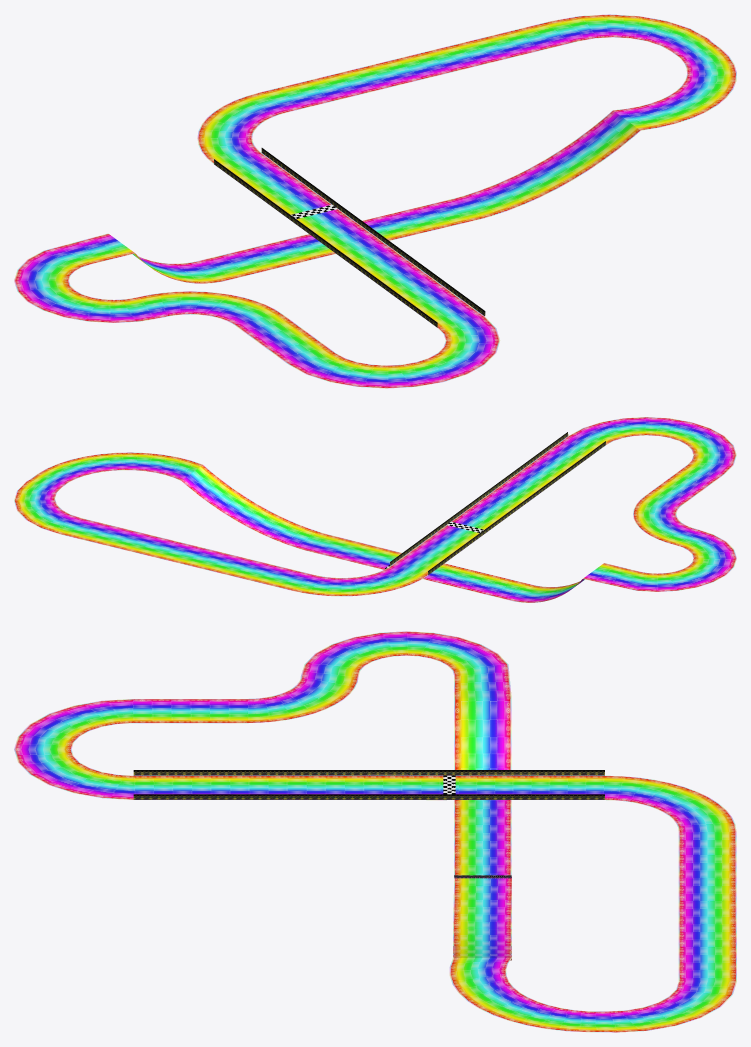
The picture shows the model from 3 angles, top to bottom: view 1: azimuth 30°, elevation 25°; view 2: azimuth 150°, elevation 25°; view 3: azimuth 270°, elevation 25°; orthographic projection. The views are drawn at different scales.
Parts seen in each view (by area): view 1: Silly_Rainbow-SKP--r_road01, Silly_Rainbow-SKP--r_saku03; view 2: Silly_Rainbow-SKP--r_road01, Silly_Rainbow-SKP--r_saku03; view 3: Silly_Rainbow-SKP--r_road01, Silly_Rainbow-SKP--r_saku03.
Boxes of the visible parts, x1,y1,x2,y2 form: Silly_Rainbow-SKP--r_road01: [14, 14, 736, 388]; Silly_Rainbow-SKP--r_saku03: [214, 148, 485, 327]; Silly_Rainbow-SKP--r_road01: [14, 417, 736, 602]; Silly_Rainbow-SKP--r_saku03: [390, 432, 605, 574]; Silly_Rainbow-SKP--r_road01: [14, 631, 736, 1032]; Silly_Rainbow-SKP--r_saku03: [133, 770, 604, 799].
Size of the model in its own units: 57566 by 3867 by 43812.
5 materials, 5 textured.
